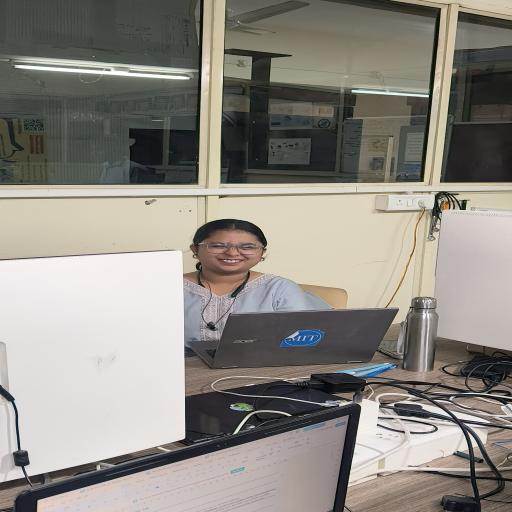survivor: (183, 218, 335, 356)
